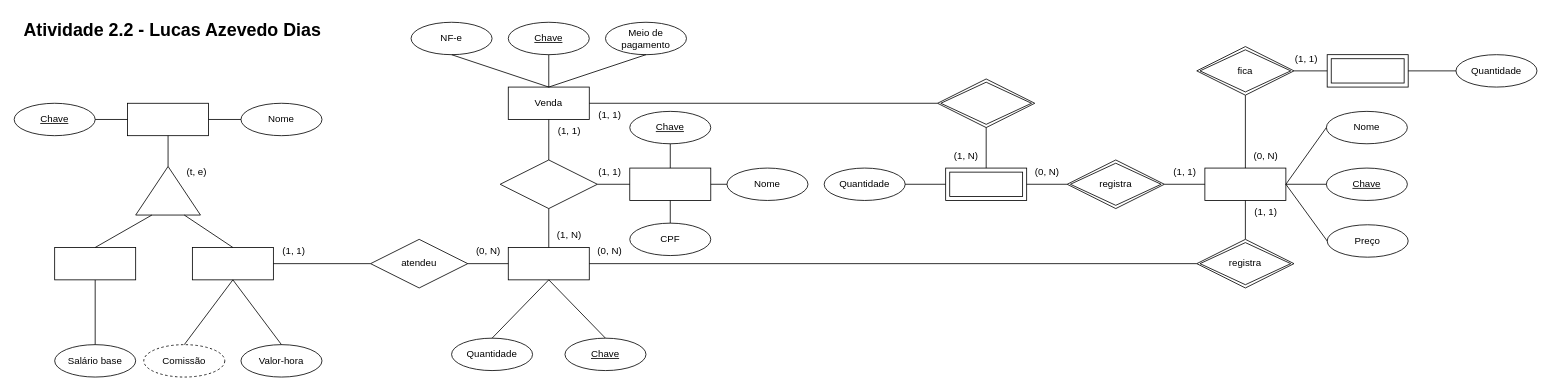
This 1551x391 diagram has some shape labels left out. The box of each missing label's shape, as (x1, y1, x2, y2) in pixels:
Cliente: (629, 167, 711, 200)
Comanda: (507, 247, 589, 280)
compra: (499, 159, 597, 209)
Comum: (54, 247, 136, 280)
Estoque: (1326, 54, 1408, 87)
Funcionário: (127, 102, 209, 136)
Garçom: (192, 247, 273, 280)
Operação: (945, 167, 1027, 200)
possui: (937, 78, 1035, 128)
Produto: (1204, 167, 1286, 200)
